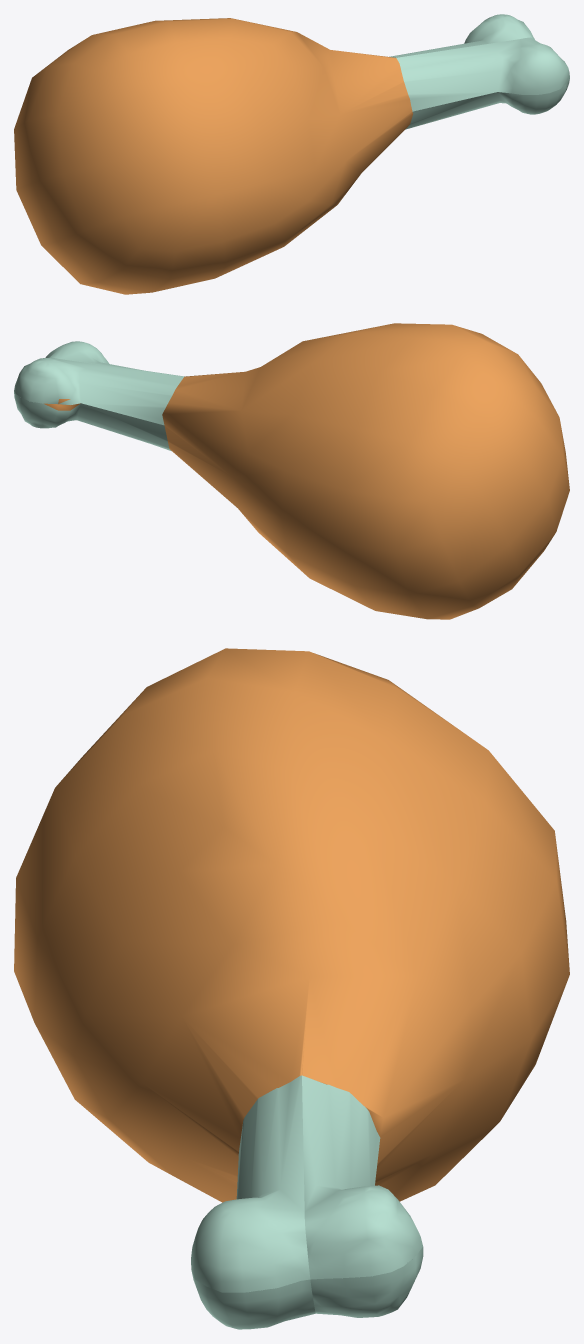
The model's file is jitui.fbx.
The picture shows the model from 3 angles, top to bottom: view 1: azimuth 30°, elevation 25°; view 2: azimuth 150°, elevation 25°; view 3: azimuth 270°, elevation 25°; orthographic projection. The views are drawn at different scales.
Visible parts, largest first — view 1: Cylinder046; view 2: Cylinder046; view 3: Cylinder046.
Part boxes in pixels (box(x1,y1,x2,y2)): Cylinder046: box(14, 14, 569, 294); Cylinder046: box(14, 323, 569, 619); Cylinder046: box(14, 648, 569, 1329).
Size of the model in its own units: 229 by 109 by 114.
